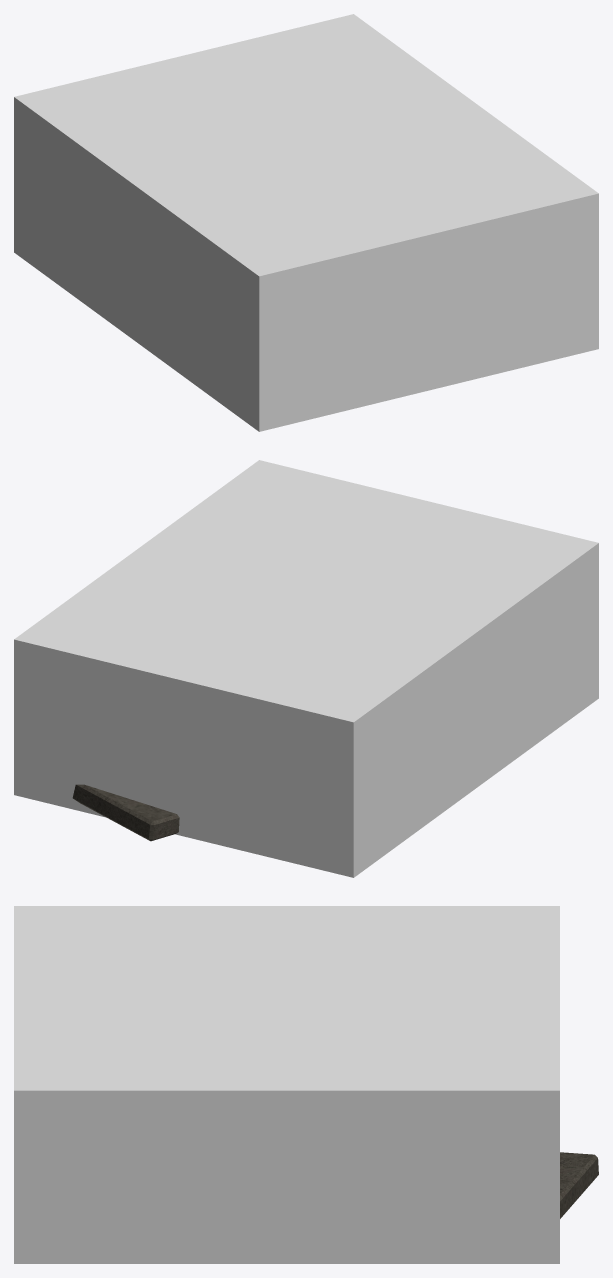
File: sarcophagus_small_opened.glb
3 renders of one model, top to bottom at view 1: azimuth 30°, elevation 25°; view 2: azimuth 150°, elevation 25°; view 3: azimuth 270°, elevation 25°, orthographic. The views are drawn at different scales.
Visible parts, largest first — view 1: col_click; view 2: col_click, sarcophagus_small_opened; view 3: col_click, sarcophagus_small_opened.
Boxes of the visible parts, x1,y1,x2,y2 form: col_click: (14,14,598,431); col_click: (14,460,598,877); sarcophagus_small_opened: (72,784,179,841); col_click: (14,906,559,1263); sarcophagus_small_opened: (560,1152,598,1218).
Bounding box in the file's own units: 1.6 × 0.7328 × 2.14.
Materials: 4 (3 with a texture image).
